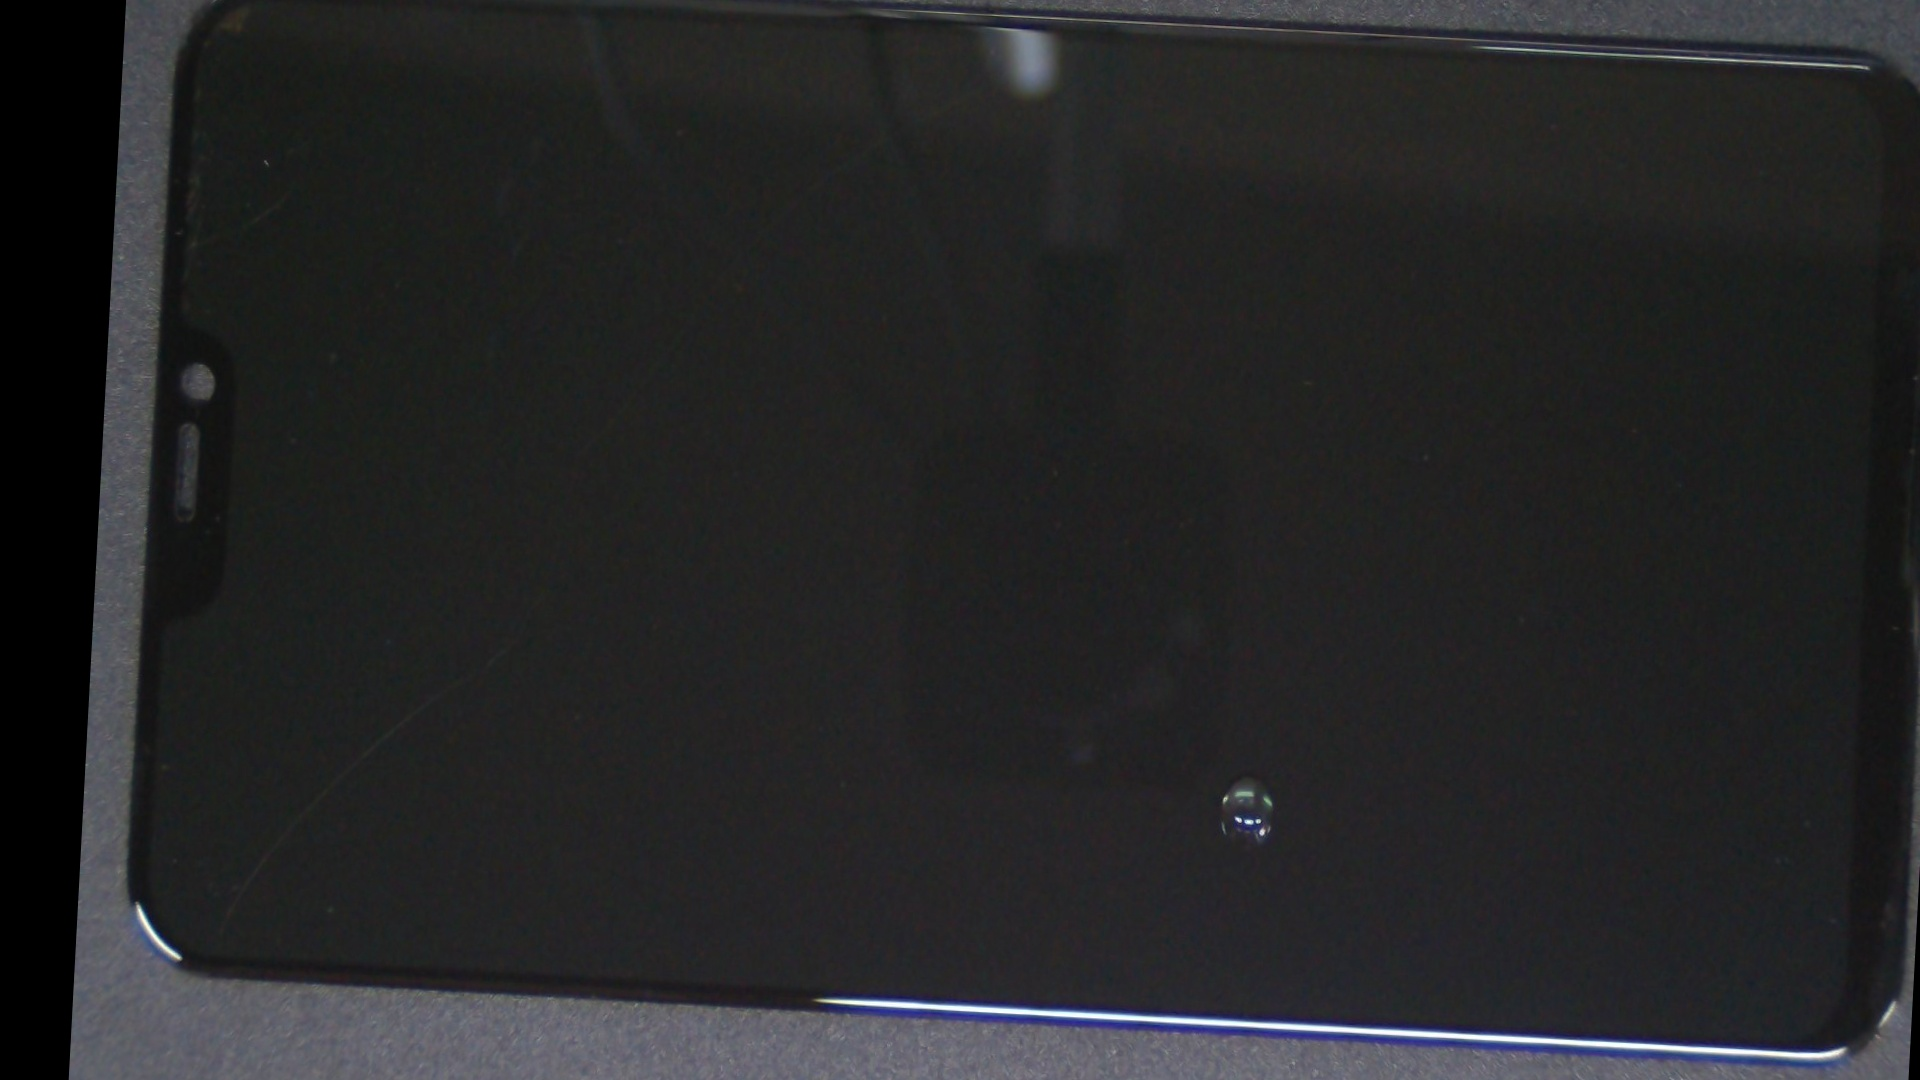oil: (647, 327, 1850, 1080)
